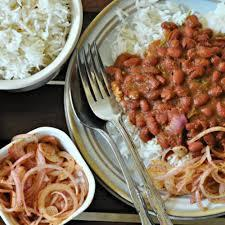rajma: (113, 41, 225, 133)
rice: (0, 0, 73, 70), (114, 8, 187, 46)
salad: (0, 141, 98, 223)
